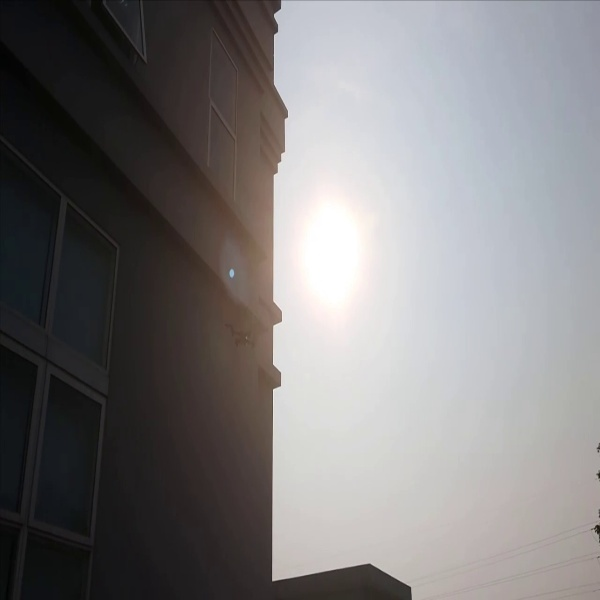drone: (224, 316, 264, 352)
